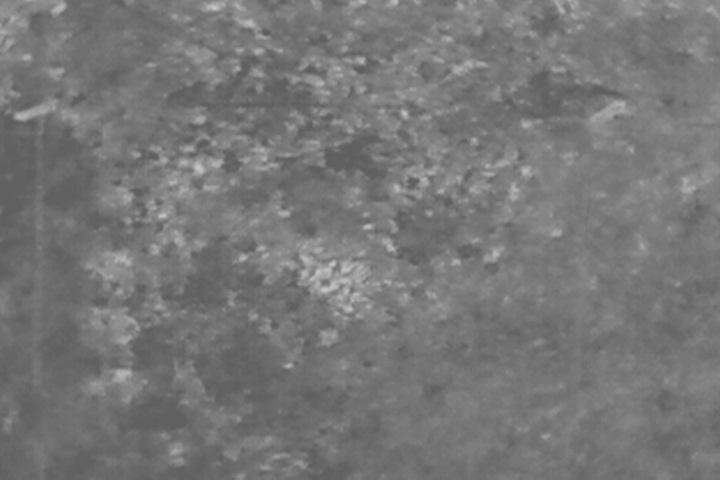landmine: (303, 248, 358, 303)
